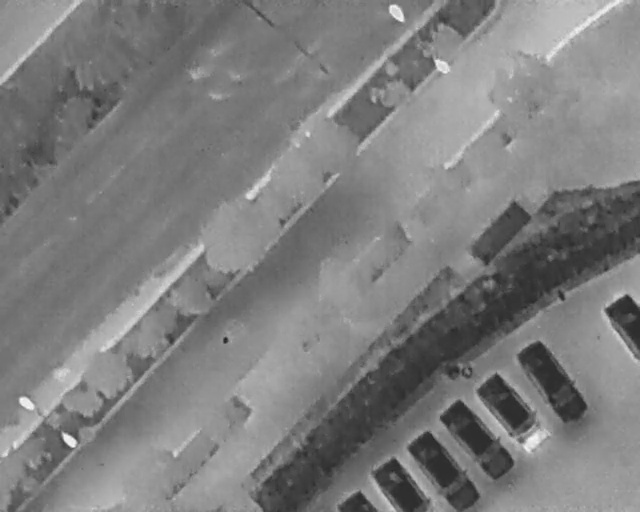Car: (432, 393, 520, 485), (469, 369, 556, 460), (511, 334, 593, 430), (404, 426, 482, 511), (367, 455, 434, 510), (601, 289, 639, 368), (334, 489, 377, 510)
